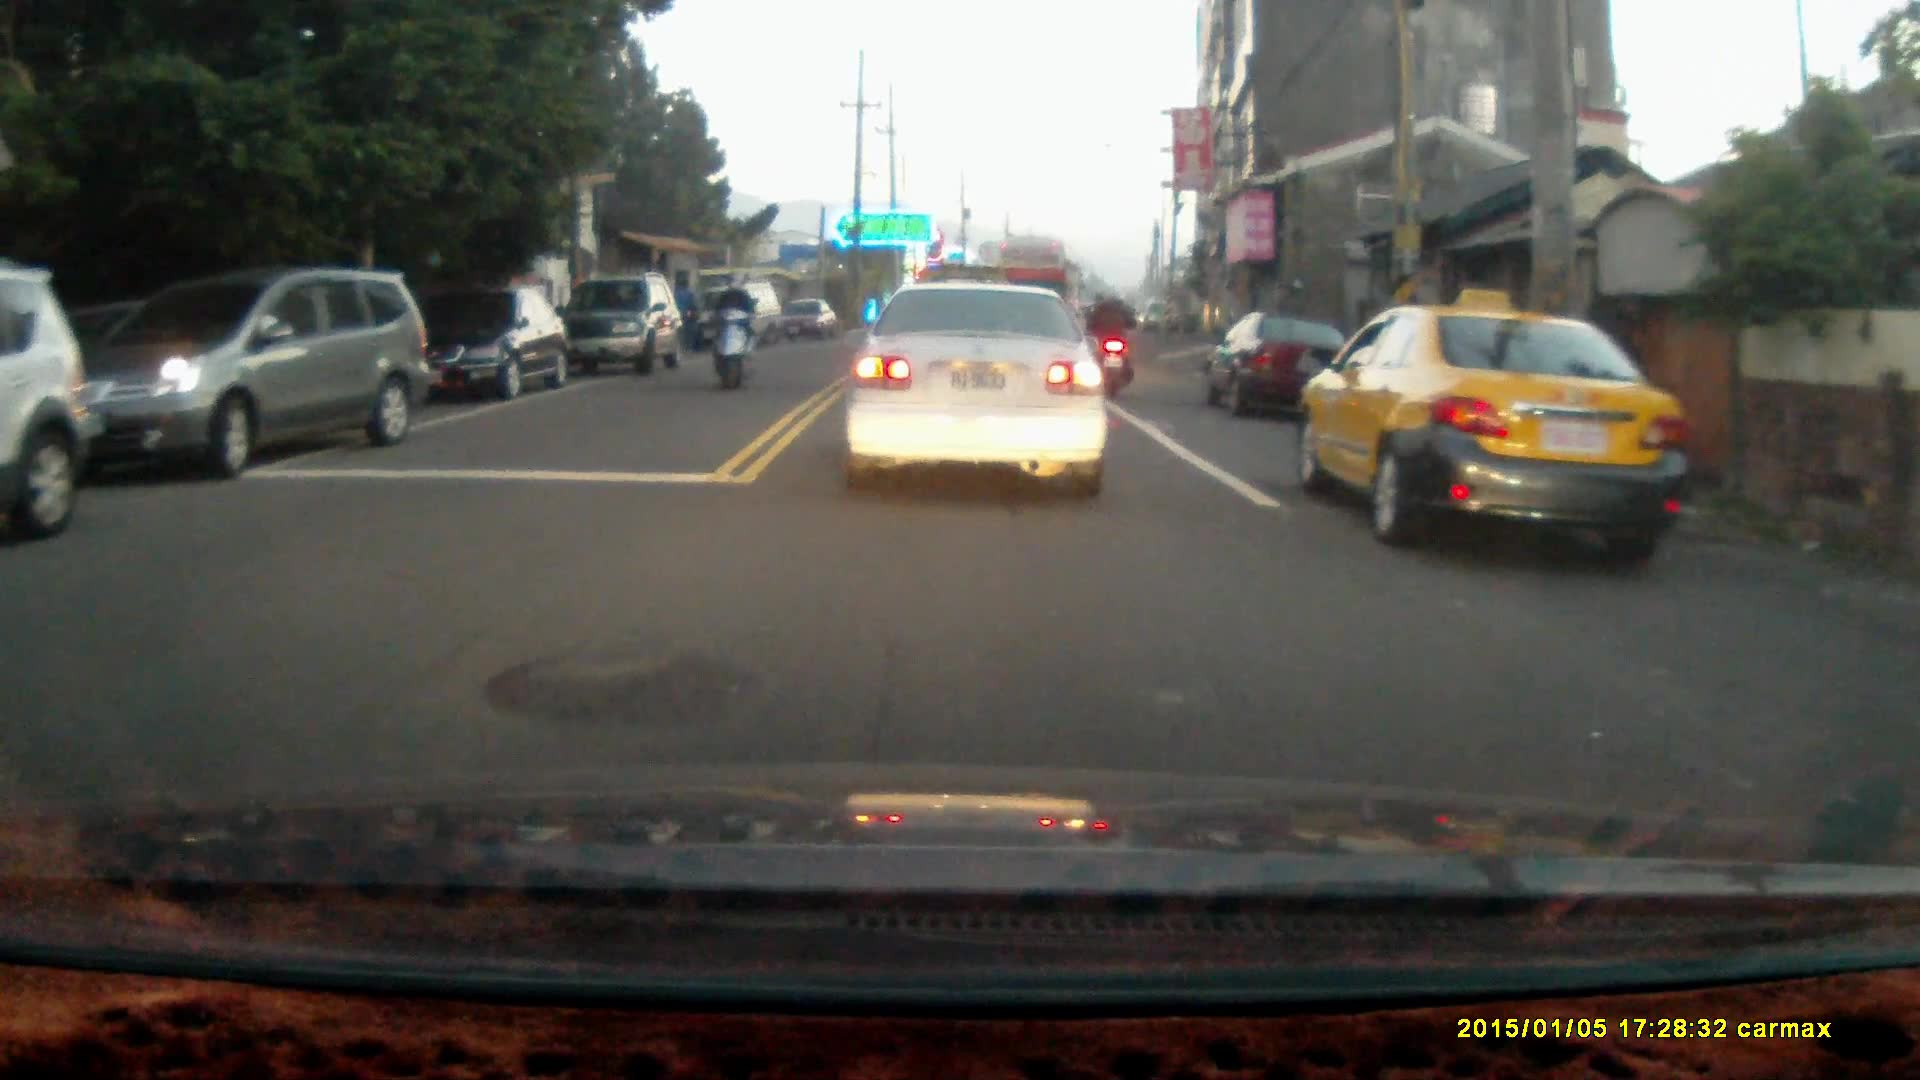rider: (1081, 282, 1139, 405), (704, 268, 755, 394)
vehicle: (1291, 304, 1690, 564), (65, 271, 435, 479), (841, 282, 1117, 505), (1, 261, 83, 551), (405, 284, 566, 402), (1210, 309, 1352, 416), (558, 274, 685, 376), (690, 287, 782, 357), (774, 297, 839, 342)
